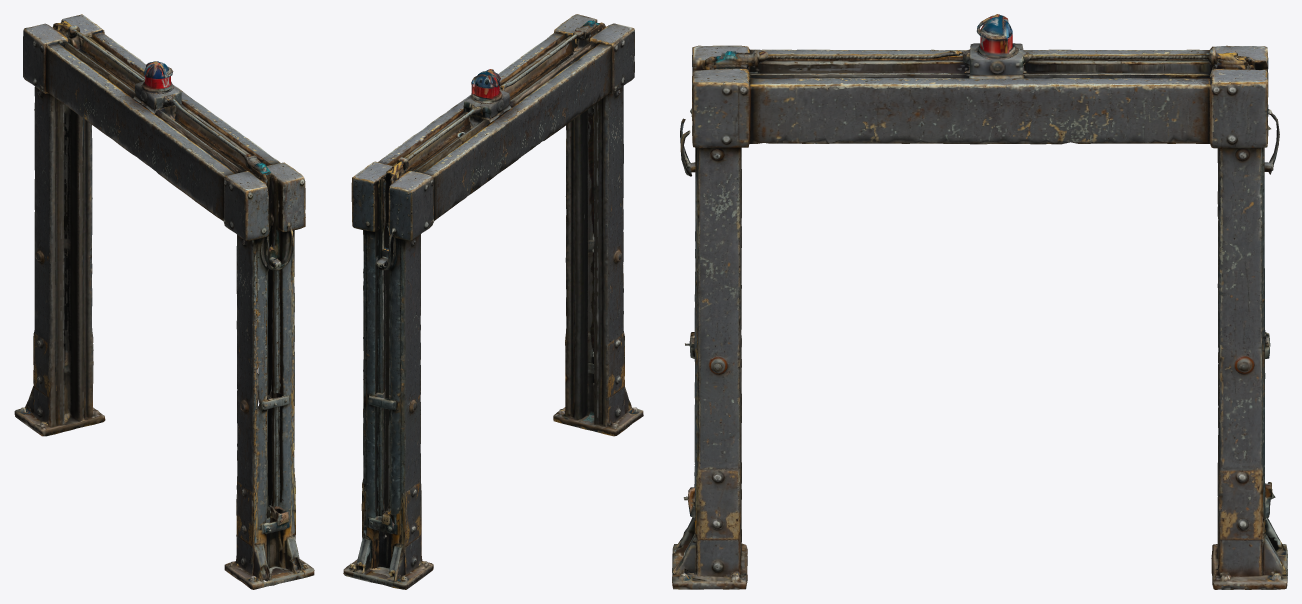
Rendered from BKI_ShutterFrame.fbx.
3 renders of one model, left to right at view 1: azimuth 30°, elevation 25°; view 2: azimuth 150°, elevation 25°; view 3: azimuth 270°, elevation 25°, orthographic. The views are drawn at different scales.
Visible parts, largest first — view 1: texture_mapping; view 2: texture_mapping; view 3: texture_mapping.
Boxes of the visible parts, x1=… form: texture_mapping: x1=14, y1=14, x2=314, y2=589; texture_mapping: x1=343, y1=14, x2=643, y2=589; texture_mapping: x1=672, y1=14, x2=1287, y2=589.
Size of the model in its own units: 0.1576 by 1 by 0.9949.
Materials: 1 (1 with a texture image).
